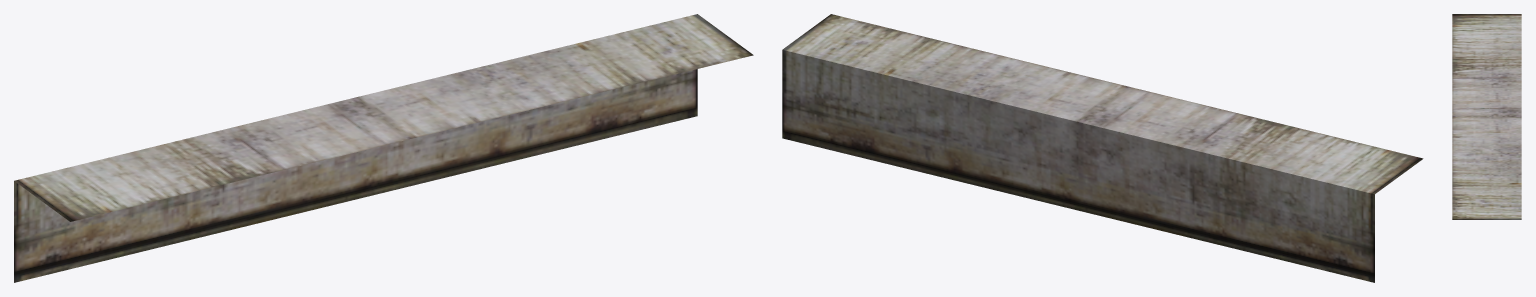
The model's file is Trottoir_17.fbx.
The picture shows the model from 3 angles, left to right: view 1: azimuth 30°, elevation 25°; view 2: azimuth 150°, elevation 25°; view 3: azimuth 270°, elevation 25°; orthographic projection. The views are drawn at different scales.
Parts seen in each view (by area): view 1: Trottoir_17; view 2: Trottoir_17; view 3: Trottoir_17.
Part boxes in pixels (left/top/right/bottom): Trottoir_17: left=14, top=14, right=753, bottom=282; Trottoir_17: left=782, top=14, right=1423, bottom=282; Trottoir_17: left=1452, top=14, right=1521, bottom=219.
Size of the model in its own units: 700 by 100 by 100.
